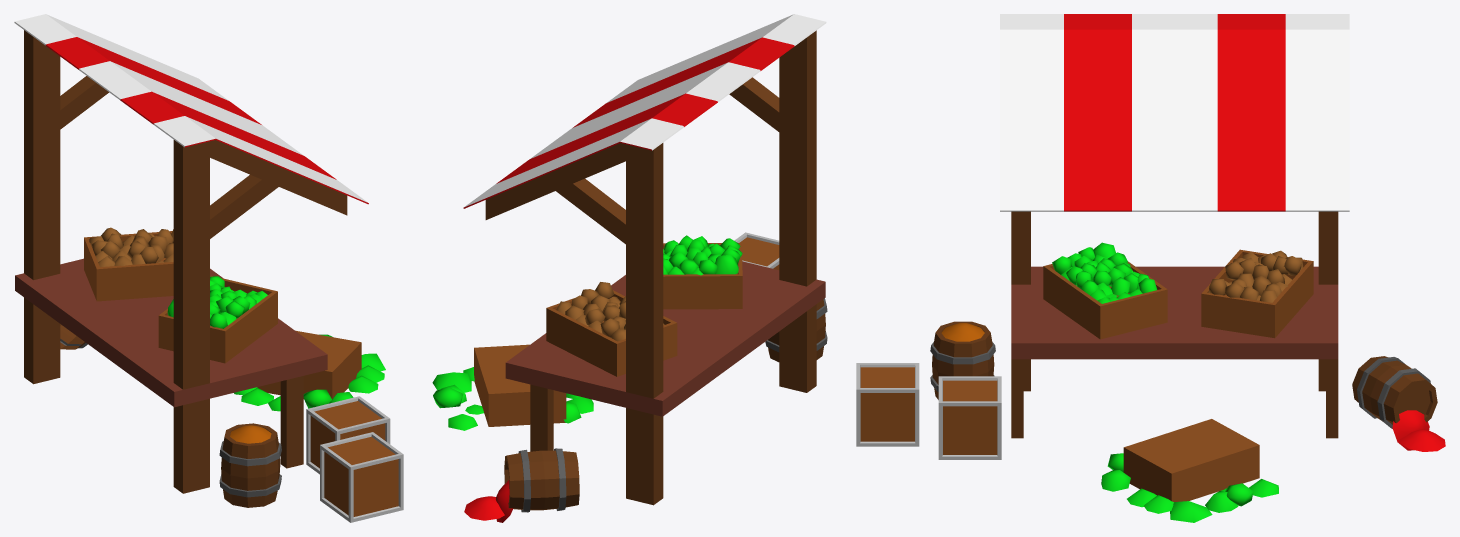
The model's file is stall 3.fbx.
The picture shows the model from 3 angles, left to right: view 1: azimuth 30°, elevation 25°; view 2: azimuth 150°, elevation 25°; view 3: azimuth 270°, elevation 25°; orthographic projection. The views are drawn at different scales.
Parts seen in each view (by area): view 1: stall 3, crates.009, trey bruin.002, trey green.002, trey orange.002, barrel orange.001, crates.008; view 2: stall 3, trey orange.002, trey bruin.002, trey green.002, barrel yellow.003, crates.009, barrel orange.001; view 3: stall 3, trey orange.002, trey green.002, trey bruin.002, barrel yellow.003, crates.008, crates.009, barrel orange.001.
Boxes of the visible parts, x1,y1,x2,y2 form: stall 3: (14,14,368,493); crates.009: (320,432,403,522); trey bruin.002: (84,227,173,301); trey green.002: (158,275,277,363); trey orange.002: (234,330,385,411); barrel orange.001: (219,423,281,507); crates.008: (306,396,390,474); stall 3: (463,14,826,505); trey orange.002: (432,344,593,430); trey bruin.002: (546,282,677,376); trey green.002: (663,235,742,309); barrel yellow.003: (464,448,579,522); crates.009: (734,232,779,270); barrel orange.001: (765,298,827,362); stall 3: (1000,14,1349,438); trey orange.002: (1101,419,1278,522); trey green.002: (1043,242,1167,339); trey bruin.002: (1201,249,1313,338); barrel yellow.003: (1352,356,1445,451); crates.008: (938,376,1001,459); crates.009: (856,363,919,446); barrel orange.001: (930,321,995,399).
Size of the model in its own units: 4.04 by 4.81 by 6.81.
